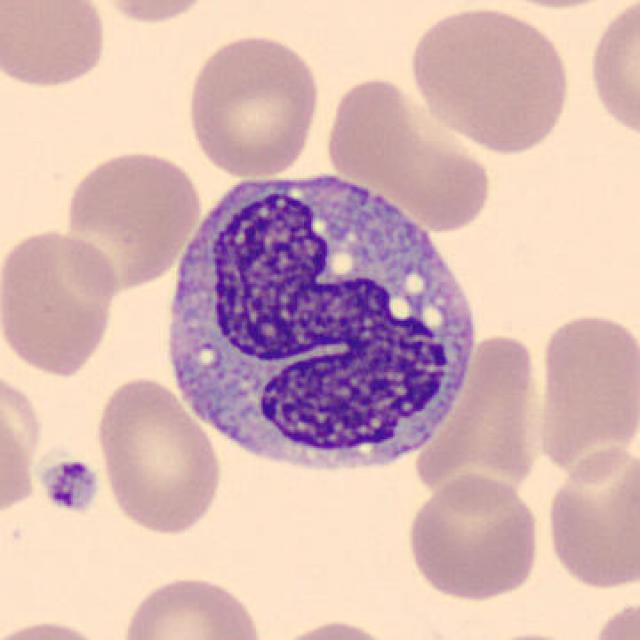Monocyte: (153, 157, 485, 485)
Platelets: (37, 455, 100, 513)
RBC: (330, 74, 497, 242), (405, 2, 576, 157), (90, 374, 226, 538), (420, 330, 541, 512), (59, 144, 204, 292), (182, 30, 324, 180), (0, 226, 123, 381), (402, 470, 544, 604), (530, 307, 638, 481), (540, 442, 638, 592), (117, 571, 267, 640), (0, 0, 110, 93), (585, 0, 638, 145), (0, 365, 44, 523), (85, 0, 222, 26), (263, 615, 400, 640), (0, 615, 119, 640), (585, 596, 638, 640), (480, 0, 633, 12), (476, 627, 593, 640)
